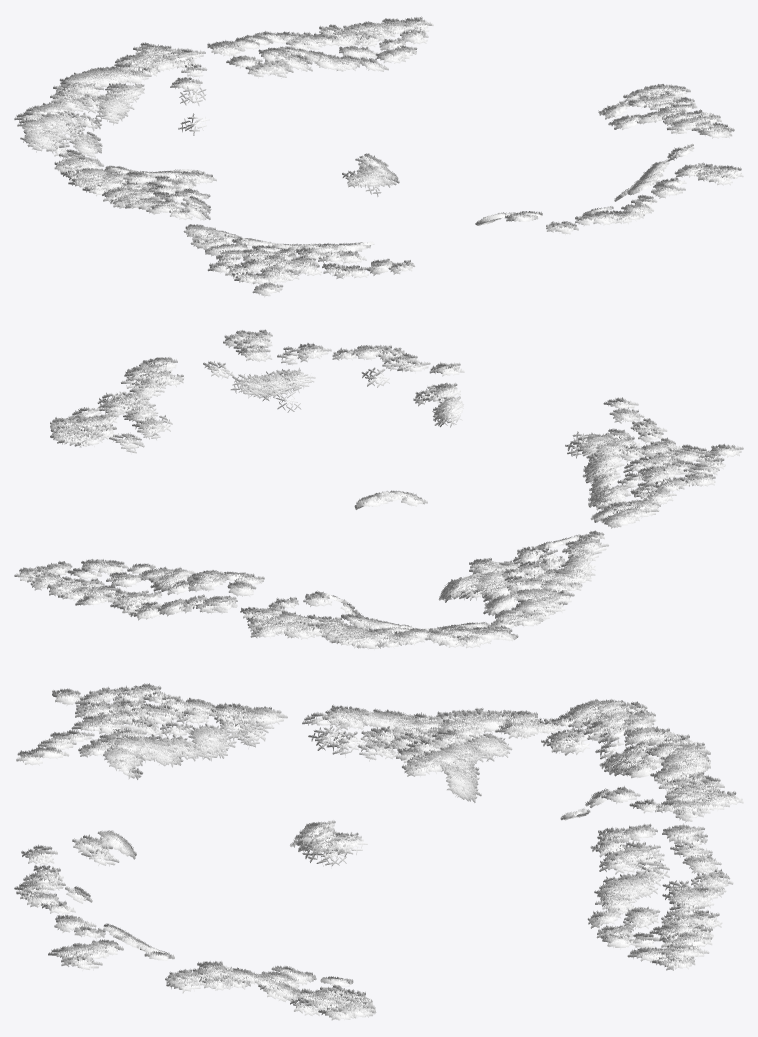
File: GrassPrefab1.fbx
The picture shows the model from 3 angles, top to bottom: view 1: azimuth 30°, elevation 25°; view 2: azimuth 150°, elevation 25°; view 3: azimuth 270°, elevation 25°; orthographic projection. The views are drawn at different scales.
Parts seen in each view (by area): view 1: GrassPrefab_Polybrush_Clone__661, GrassPrefab_Polybrush_Clone__628, GrassPrefab_Polybrush_Clone__479; view 2: GrassPrefab_Polybrush_Clone__661, GrassPrefab_Polybrush_Clone__628, GrassPrefab_Polybrush_Clone__479; view 3: GrassPrefab_Polybrush_Clone__661, GrassPrefab_Polybrush_Clone__479, GrassPrefab_Polybrush_Clone__628.
Part boxes in pixels (x1,y1,x2,y2): GrassPrefab_Polybrush_Clone__661: [14, 42, 415, 297]; GrassPrefab_Polybrush_Clone__628: [475, 84, 743, 234]; GrassPrefab_Polybrush_Clone__479: [207, 16, 433, 78]; GrassPrefab_Polybrush_Clone__661: [240, 397, 743, 649]; GrassPrefab_Polybrush_Clone__628: [50, 329, 464, 453]; GrassPrefab_Polybrush_Clone__479: [14, 559, 264, 620]; GrassPrefab_Polybrush_Clone__661: [16, 683, 743, 866]; GrassPrefab_Polybrush_Clone__479: [587, 823, 733, 970]; GrassPrefab_Polybrush_Clone__628: [14, 830, 376, 1020].
Bounding box in the file's own units: 7298 × 641 × 7079.
1 material, 1 textured.
